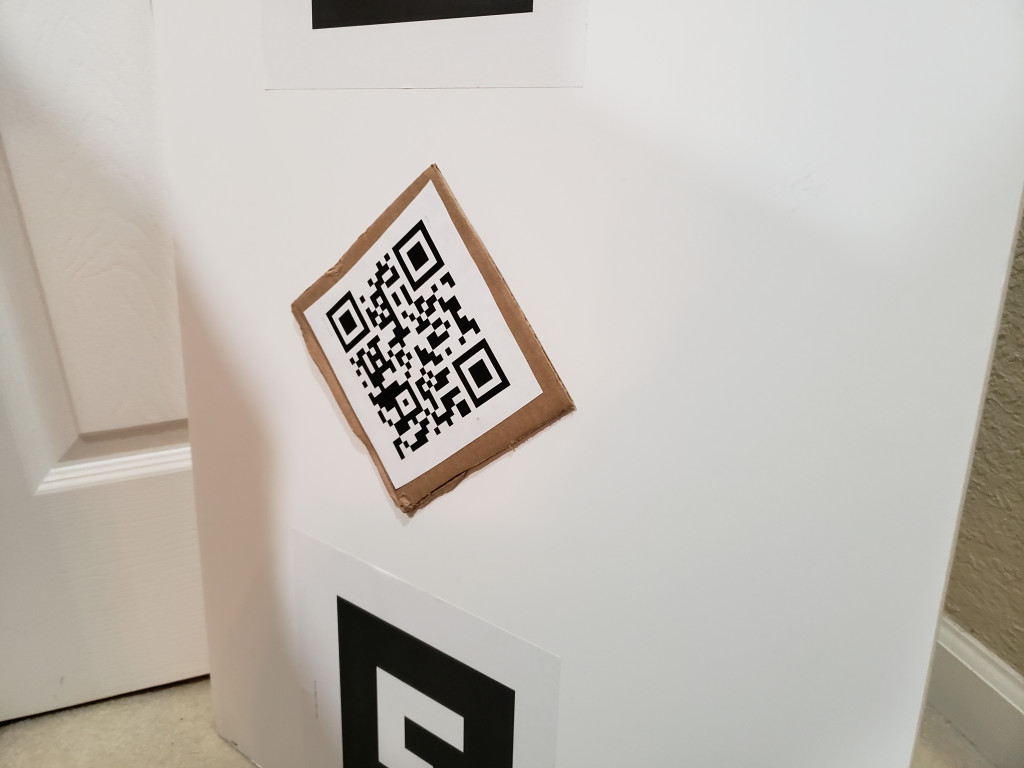QR_CODE: (319, 214, 515, 471)
